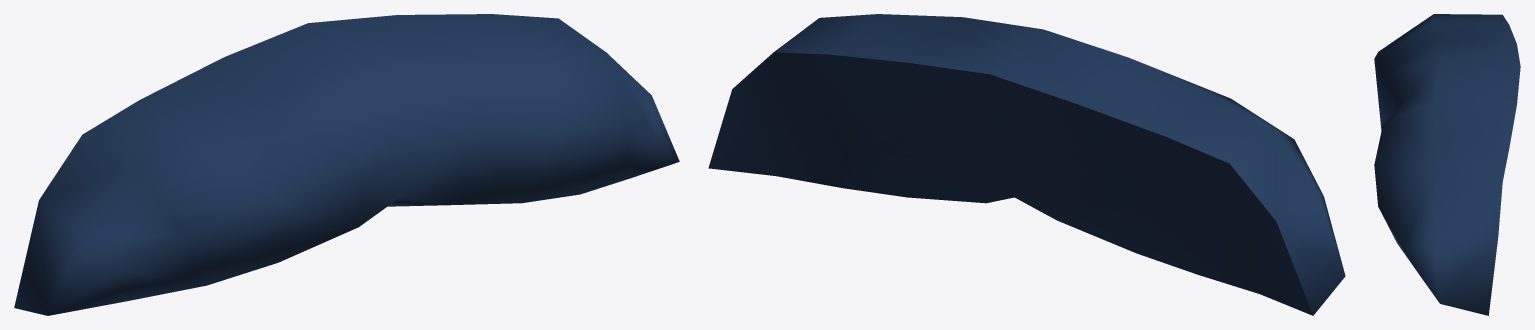
File: Beard_Blue_4.fbx
The picture shows the model from 3 angles, left to right: view 1: azimuth 30°, elevation 25°; view 2: azimuth 150°, elevation 25°; view 3: azimuth 270°, elevation 25°; orthographic projection. The views are drawn at different scales.
Visible parts, largest first — view 1: Beard_Blue_4; view 2: Beard_Blue_4; view 3: Beard_Blue_4.
Boxes of the visible parts, left/top/right/bottom form: Beard_Blue_4: left=14, top=14, right=679, bottom=315; Beard_Blue_4: left=708, top=14, right=1345, bottom=315; Beard_Blue_4: left=1374, top=14, right=1520, bottom=315.
Bounding box in the file's own units: 26.47 × 7.9 × 7.36.
